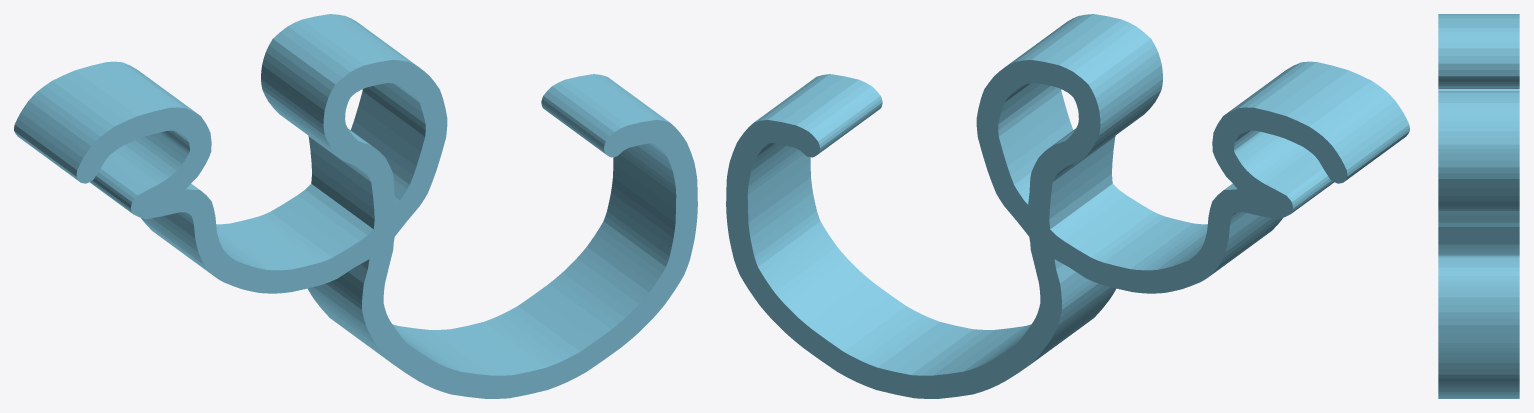
Rendered from tinker.obj.
The picture shows the model from 3 angles, left to right: view 1: azimuth 30°, elevation 25°; view 2: azimuth 150°, elevation 25°; view 3: azimuth 270°, elevation 25°; orthographic projection. The views are drawn at different scales.
Parts seen in each view (by area): view 1: obj_0; view 2: obj_0; view 3: obj_0.
Part boxes in pixels (<box>): obj_0: <box>14,14,697,398</box>; obj_0: <box>726,14,1409,398</box>; obj_0: <box>1438,14,1519,398</box>.
Size of the model in its own units: 57.3 by 33.02 by 10.
